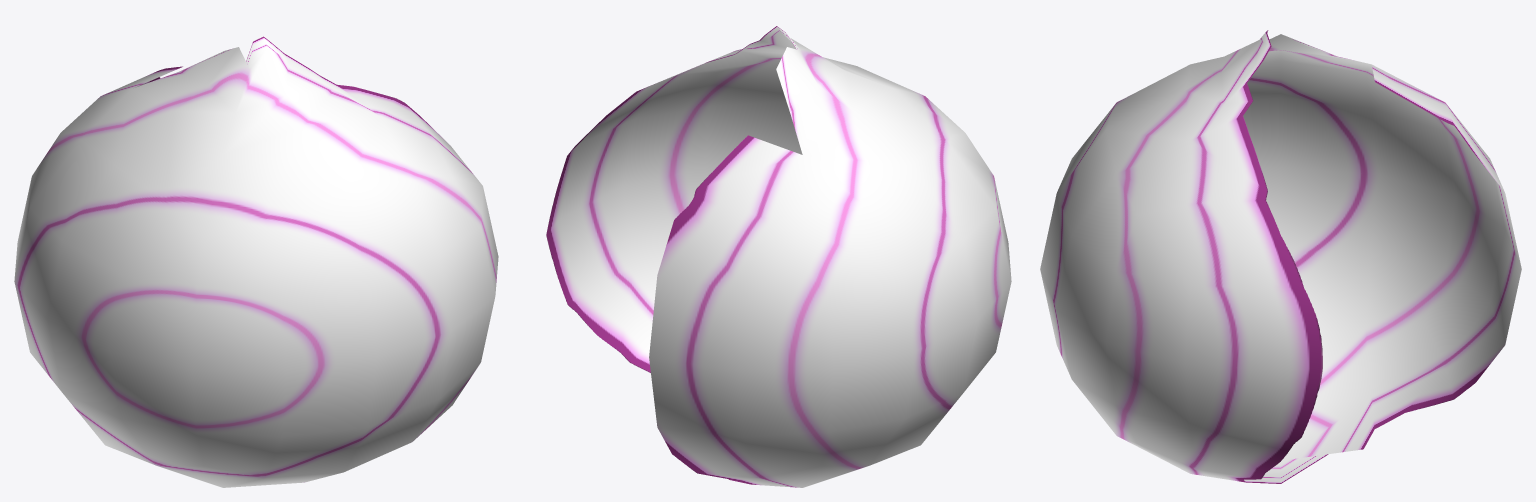
File: Onion.fbx
The picture shows the model from 3 angles, left to right: view 1: azimuth 30°, elevation 25°; view 2: azimuth 150°, elevation 25°; view 3: azimuth 270°, elevation 25°; orthographic projection.
Visible parts, largest first — view 1: Onion; view 2: Onion; view 3: Onion.
Part boxes in pixels (x1,y1,x2,y2): Onion: (14, 36, 498, 487); Onion: (546, 26, 1011, 487); Onion: (1040, 30, 1521, 483).
Bounding box in the file's own units: 53.61 × 54.86 × 53.61.
